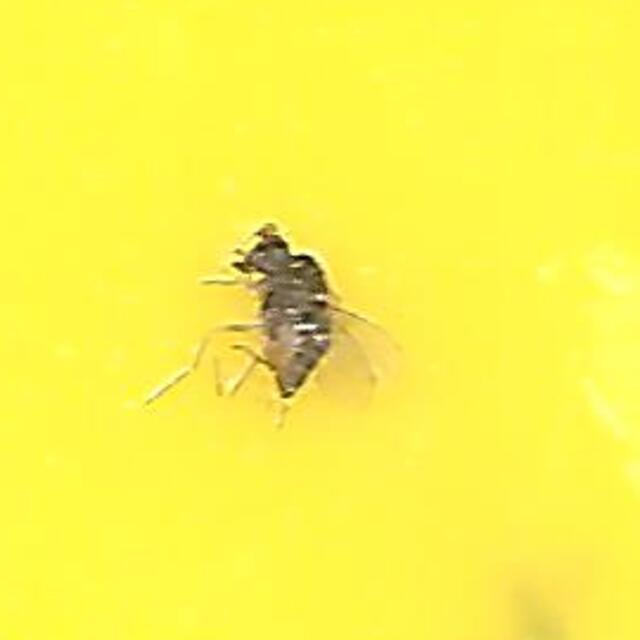Brachycera: (237, 230, 403, 410)
